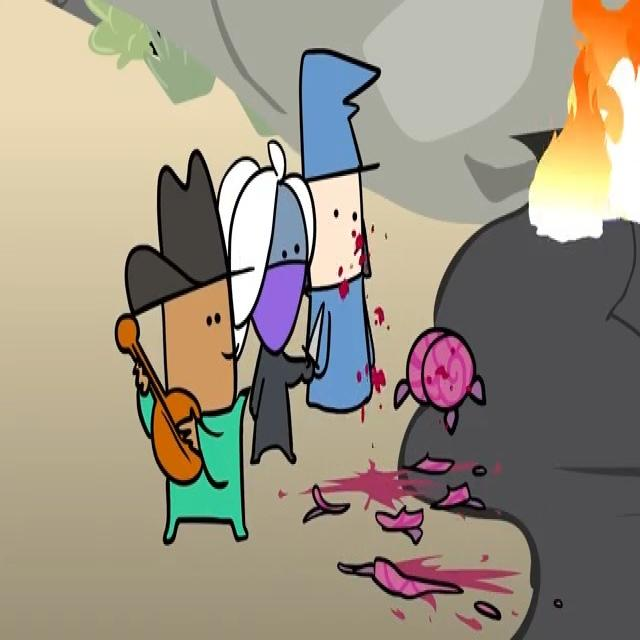Banjovi: (115, 148, 251, 545)
Josh: (299, 48, 381, 413)
miss Demeanor: (217, 139, 316, 465)
